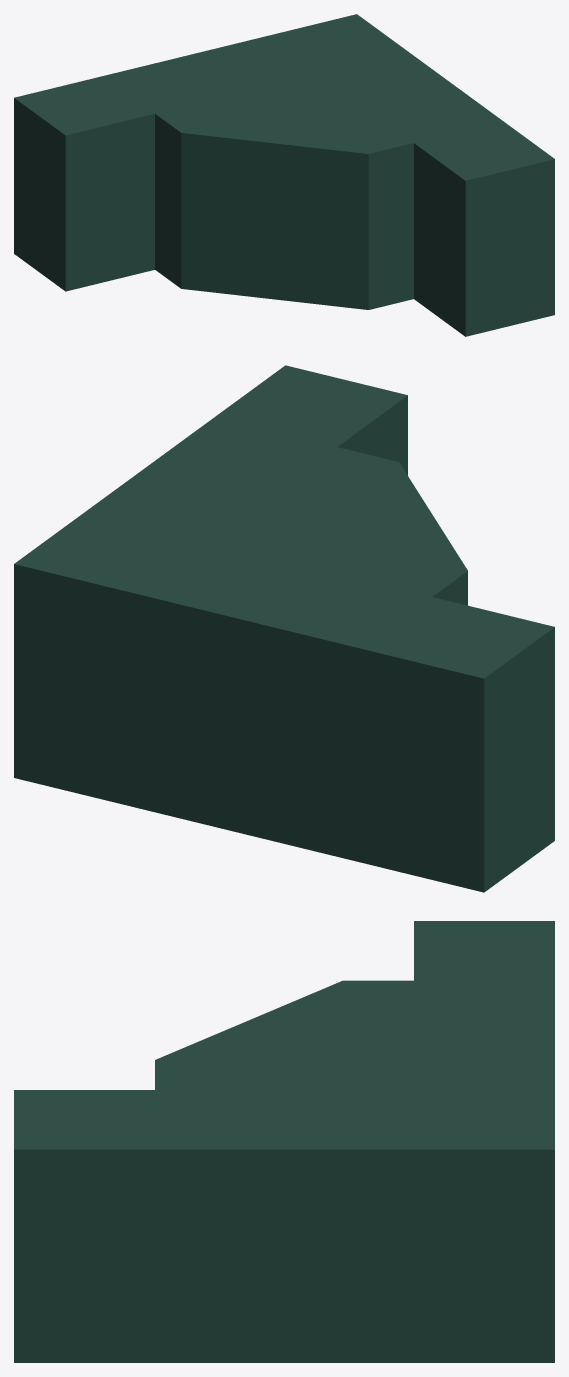
File: W2_WallCorner_Angular2B_Top.fbx
3 renders of one model, top to bottom at view 1: azimuth 30°, elevation 25°; view 2: azimuth 150°, elevation 25°; view 3: azimuth 270°, elevation 25°, orthographic. The views are drawn at different scales.
Parts seen in each view (by area): view 1: W2_WallCorner_Angular2B_Top.001; view 2: W2_WallCorner_Angular2B_Top.001; view 3: W2_WallCorner_Angular2B_Top.001.
Part boxes in pixels (<box>): W2_WallCorner_Angular2B_Top.001: <box>14,14,554,336</box>; W2_WallCorner_Angular2B_Top.001: <box>14,365,554,892</box>; W2_WallCorner_Angular2B_Top.001: <box>14,921,554,1362</box>.
Size of the model in its own units: 1.15 by 0.5 by 1.15.
